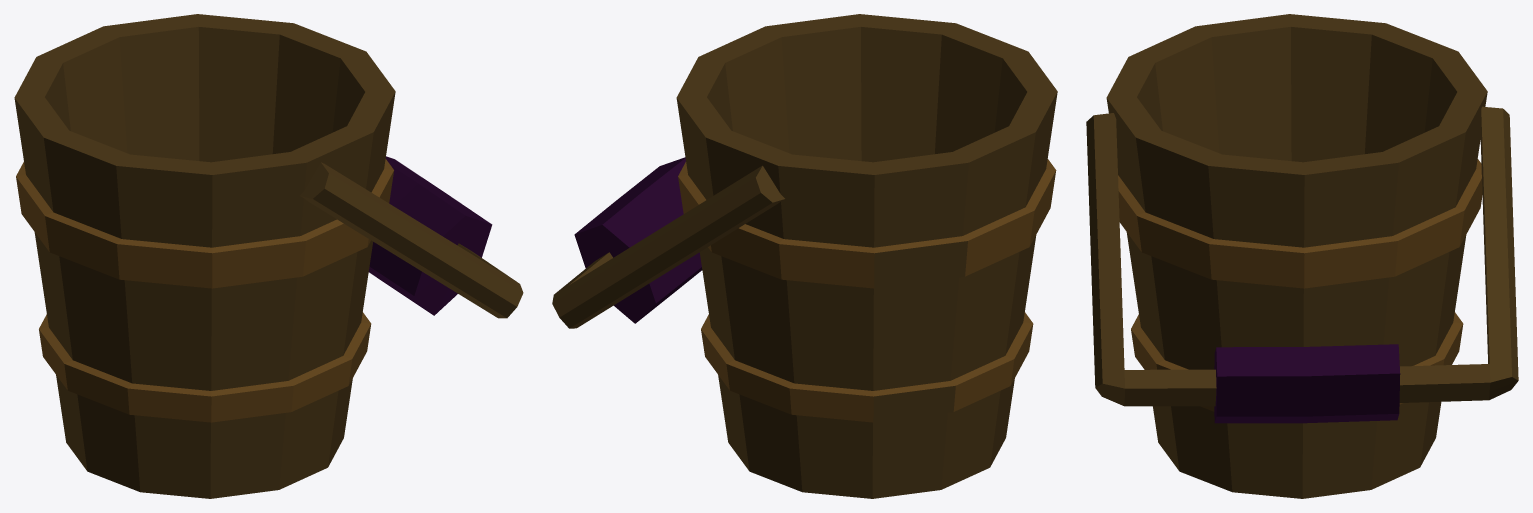
Rendered from wooden_bucket.fbx.
The picture shows the model from 3 angles, left to right: view 1: azimuth 30°, elevation 25°; view 2: azimuth 150°, elevation 25°; view 3: azimuth 270°, elevation 25°; orthographic projection.
Visible parts, largest first — view 1: wooden_bucket; view 2: wooden_bucket; view 3: wooden_bucket.
Boxes of the visible parts, <box> form: wooden_bucket: <box>14,14,523,498</box>; wooden_bucket: <box>552,14,1057,498</box>; wooden_bucket: <box>1086,14,1518,498</box>.
Bounding box in the file's own units: 71.27 × 57.08 × 64.68.
